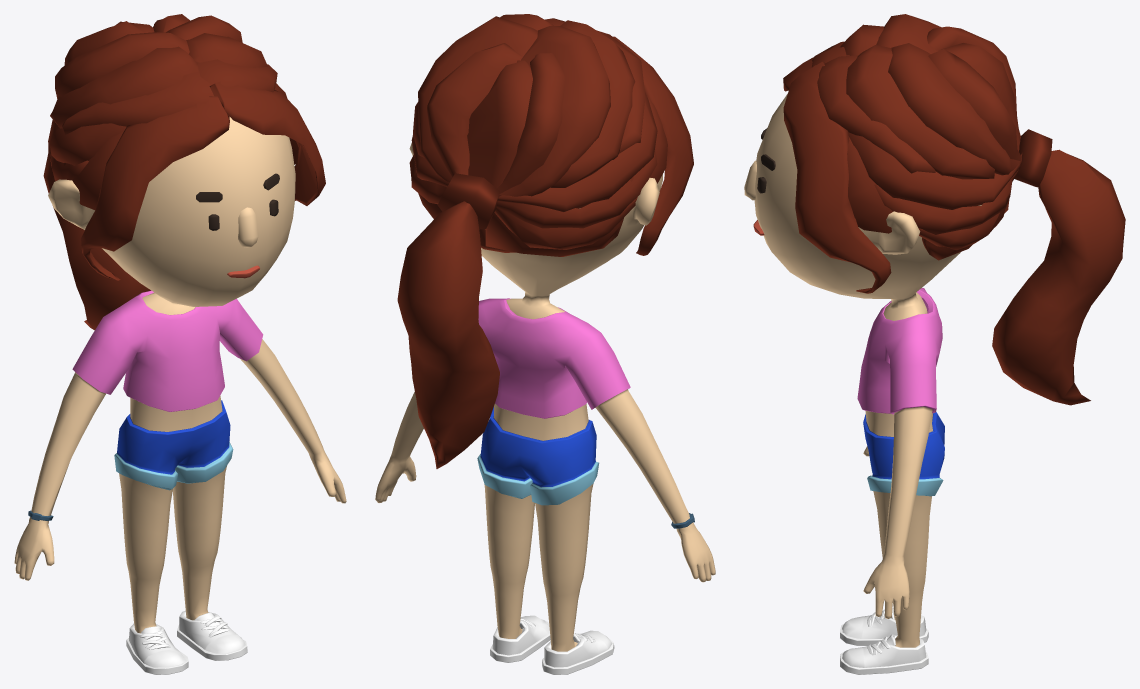
File: character_10.fbx
3 views of the same model, side by side, from view 1: azimuth 30°, elevation 25°; view 2: azimuth 150°, elevation 25°; view 3: azimuth 270°, elevation 25° (orthographic). The views are drawn at different scales.
Visible parts, largest first — view 1: Girl_10; view 2: Girl_10; view 3: Girl_10.
Part boxes in pixels (x1=…): Girl_10: x1=14, y1=14, x2=346, y2=674; Girl_10: x1=375, y1=14, x2=715, y2=674; Girl_10: x1=744, y1=14, x2=1125, y2=674.
Size of the model in its own units: 3.13 by 5.74 by 3.22.
